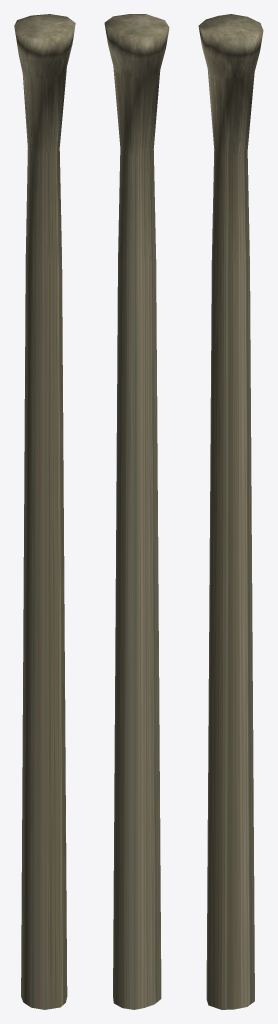
Rendered from INST_OH_PITPILLAR_01.fbx.
The picture shows the model from 3 angles, left to right: view 1: azimuth 30°, elevation 25°; view 2: azimuth 150°, elevation 25°; view 3: azimuth 330°, elevation 25°; orthographic projection.
Parts seen in each view (by area): view 1: INST_OH_PITPILLAR_01; view 2: INST_OH_PITPILLAR_01; view 3: INST_OH_PITPILLAR_01.
Part boxes in pixels (<box>): INST_OH_PITPILLAR_01: <box>14,14,75,1009</box>; INST_OH_PITPILLAR_01: <box>104,14,169,1009</box>; INST_OH_PITPILLAR_01: <box>198,14,263,1009</box>.
Size of the model in its own units: 13486 by 229901 by 12525.
1 material, 1 textured.
